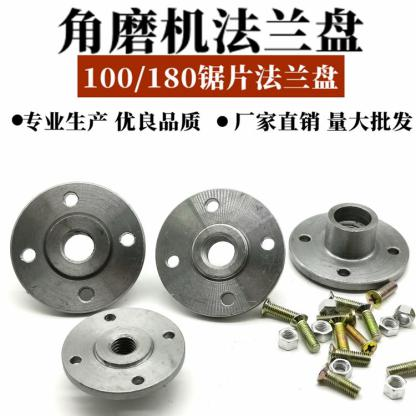FOD: (152, 183, 288, 322), (9, 179, 147, 315), (56, 304, 186, 400), (284, 197, 412, 292), (381, 372, 408, 405), (390, 302, 416, 332), (327, 353, 352, 382), (310, 318, 333, 342), (277, 325, 299, 350), (378, 314, 400, 336)
